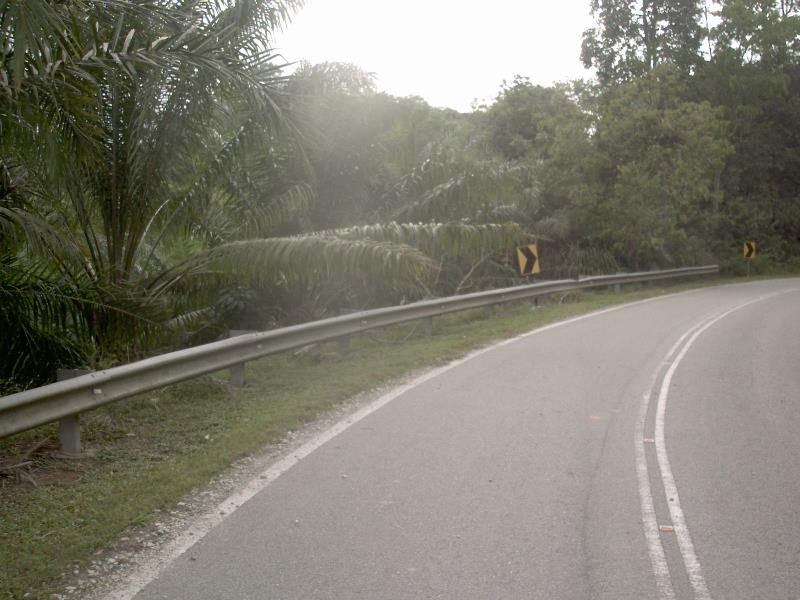traffic_sign: (511, 235, 545, 284)
